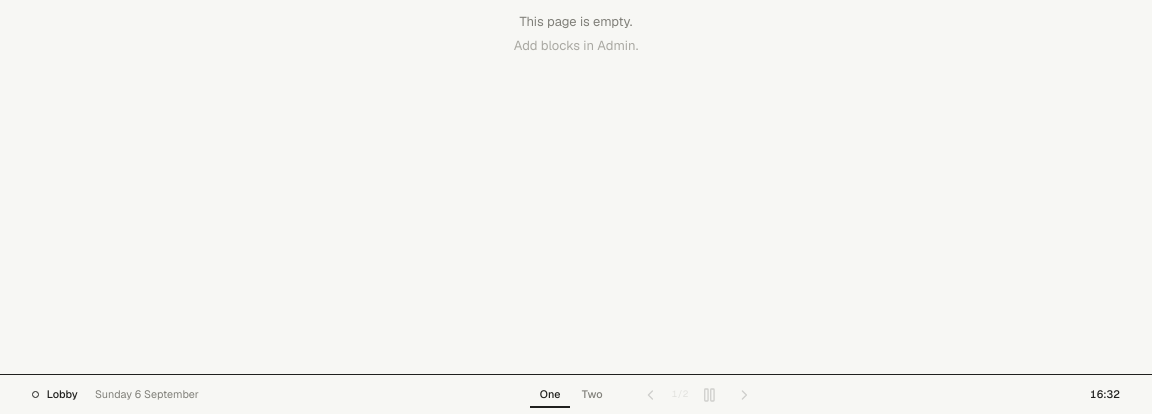
Test case: rotation state survives polling › does not restart rotation when an unchanged configuration comes back
The image size is (1152, 414).
Click the button named "pause rotation" at (710, 394), box [693,378,726,411]
Wait 62000 ms
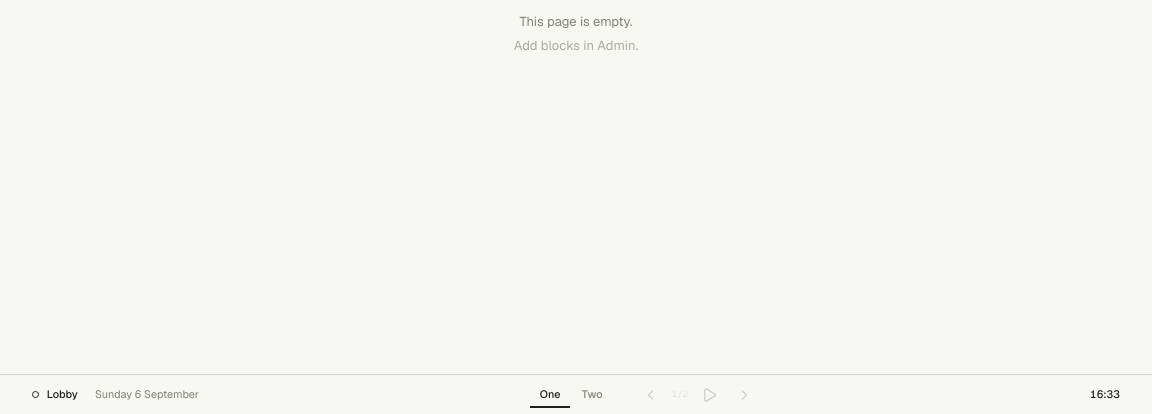
Result: the button named "resume rotation" is shown at [693,378,726,411]
